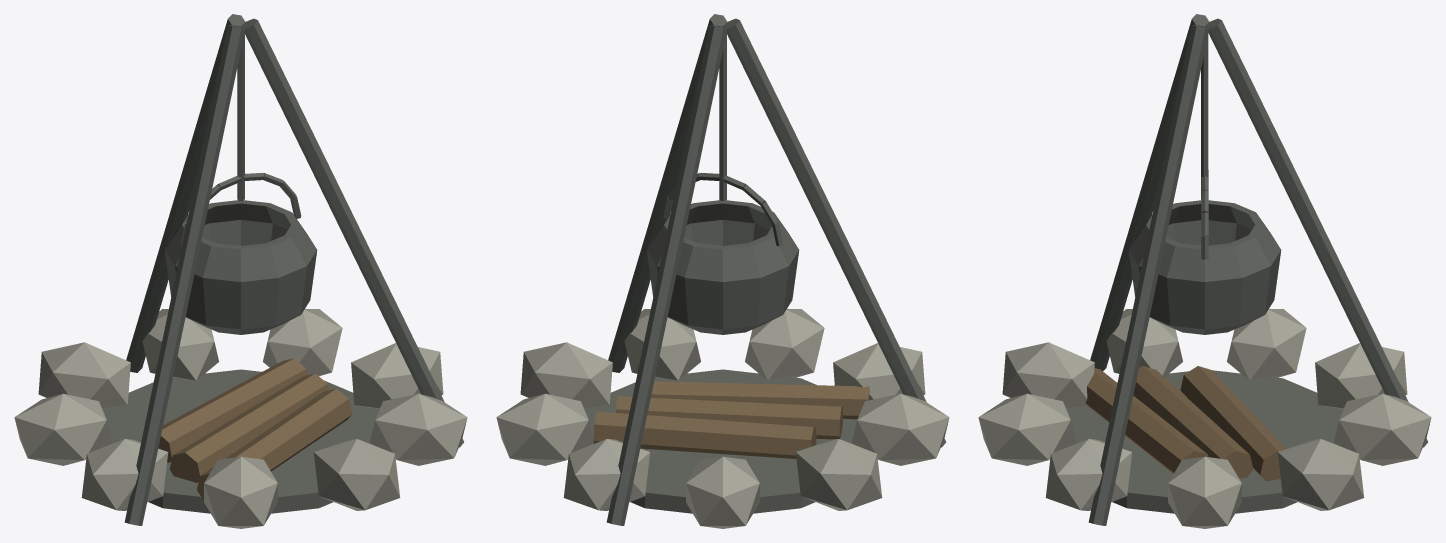
The model's file is camp_fire.glb.
3 renders of one model, left to right at view 1: azimuth 30°, elevation 25°; view 2: azimuth 150°, elevation 25°; view 3: azimuth 270°, elevation 25°, orthographic.
Parts seen in each view (by area): view 1: camp_fire_camp_iron, camp_fire_camp_stone, camp_fire_oak_dark, camp_fire_camp_ash; view 2: camp_fire_camp_stone, camp_fire_camp_iron, camp_fire_oak_dark, camp_fire_camp_ash; view 3: camp_fire_camp_stone, camp_fire_camp_iron, camp_fire_oak_dark, camp_fire_camp_ash.
Part boxes in pixels (bbox=[...]): camp_fire_camp_iron: bbox=[124, 14, 463, 525]; camp_fire_camp_stone: bbox=[14, 308, 467, 528]; camp_fire_oak_dark: bbox=[158, 358, 352, 500]; camp_fire_camp_ash: bbox=[102, 369, 379, 513]; camp_fire_camp_stone: bbox=[496, 308, 949, 528]; camp_fire_camp_iron: bbox=[606, 14, 945, 525]; camp_fire_oak_dark: bbox=[593, 381, 869, 458]; camp_fire_camp_ash: bbox=[584, 369, 857, 513]; camp_fire_camp_stone: bbox=[978, 308, 1431, 528]; camp_fire_camp_iron: bbox=[1088, 14, 1427, 525]; camp_fire_oak_dark: bbox=[1085, 366, 1285, 481]; camp_fire_camp_ash: bbox=[1066, 370, 1343, 513].
Size of the model in its own units: 1.29 by 1.38 by 1.31.
